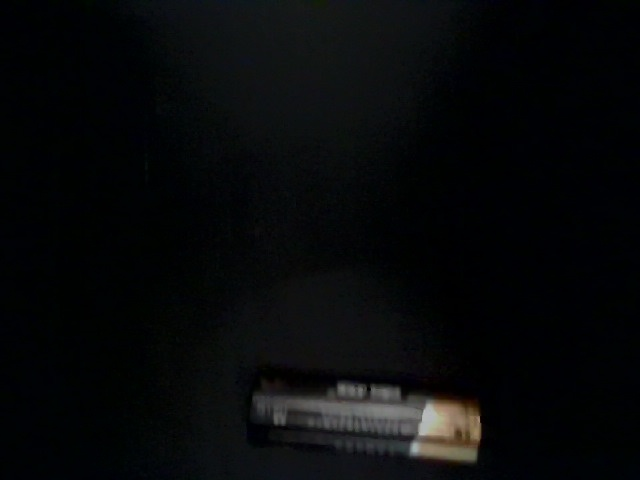YHLJ: (98, 29, 355, 106)
